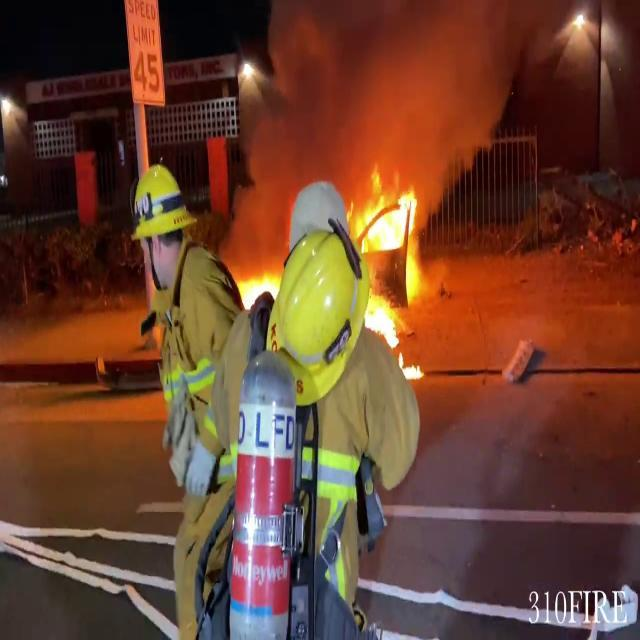Fire: (353, 168, 421, 252), (362, 285, 406, 352), (234, 259, 280, 310)
Smoke: (236, 0, 526, 178)
